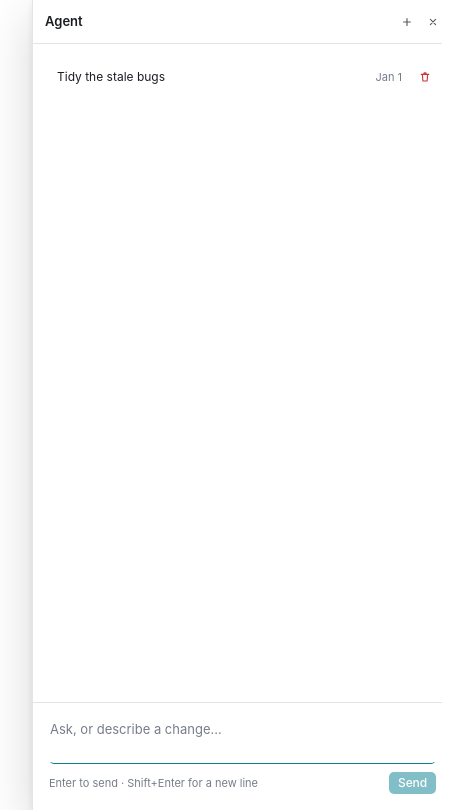
Test case: AgentPanel › offers a pending proposal, applies it, and reports what changed
Step 1. Click the button "Tidy the stale bugs Jan 1" → coordinates (111, 76), box left=49, top=60, right=410, bottom=94
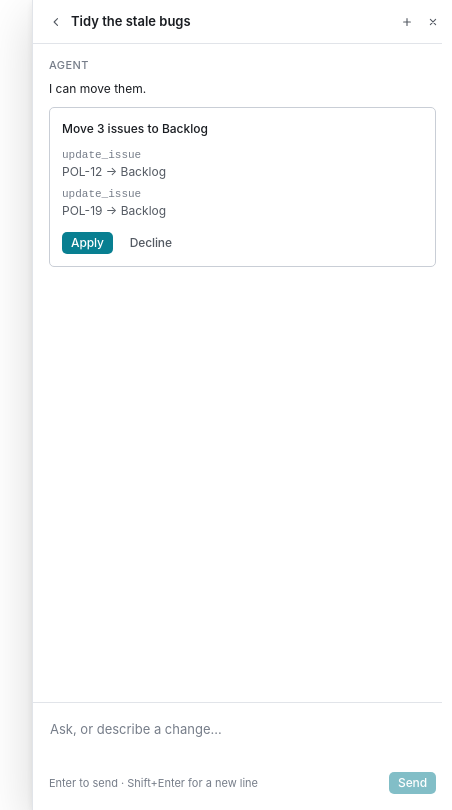
Expected: the text "Move 3 issues to Backlog" is shown, left=62, top=121, right=208, bottom=136
Expected: the text "POL-12 → Backlog" is shown, left=62, top=164, right=166, bottom=179
Step 2. Click the button "Apply" → coordinates (87, 243), box left=62, top=232, right=113, bottom=254
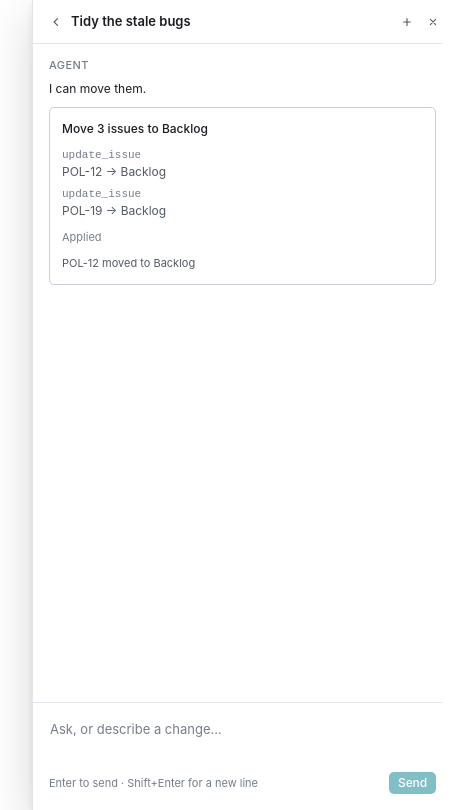
Expected: the list item "POL-12 moved to Backlog" is shown, left=62, top=256, right=195, bottom=270
